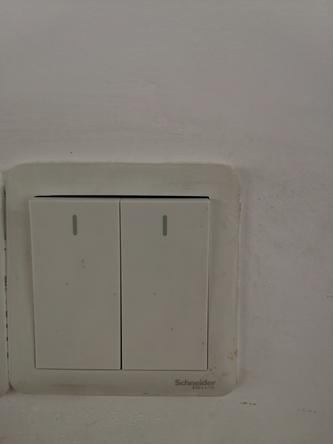switch: (114, 191, 220, 381), (24, 188, 130, 375)
